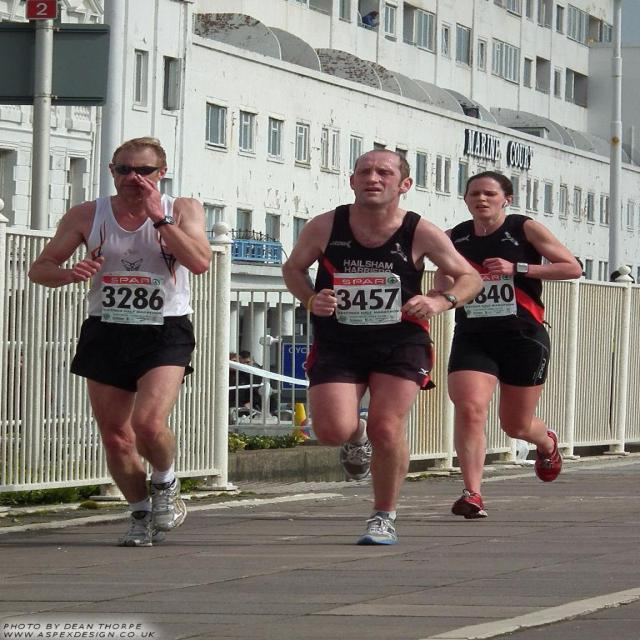Bib: (102, 285, 167, 312), (334, 288, 400, 314), (464, 279, 516, 305)
